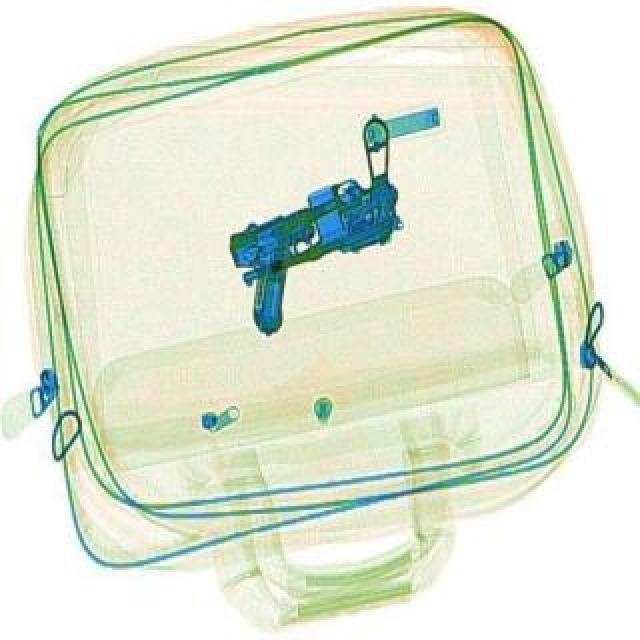gun: (202, 118, 430, 294), (216, 184, 410, 340)
